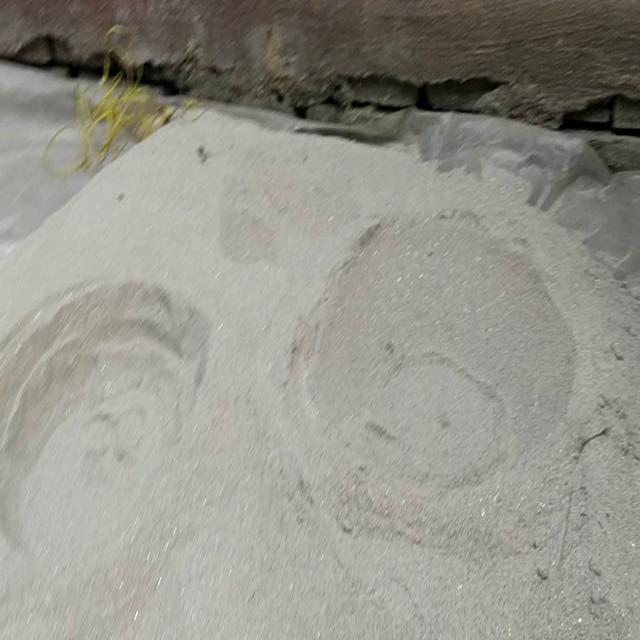C20: (289, 209, 574, 553), (0, 280, 209, 556)
